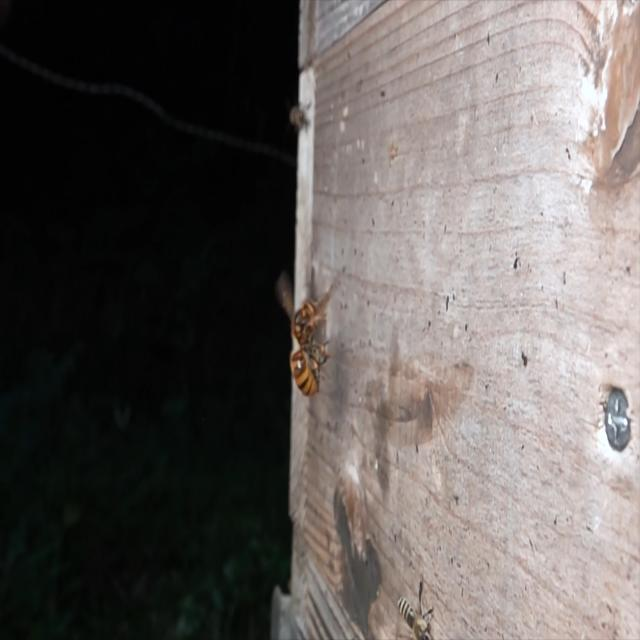Bees: (396, 579, 435, 640)
Hornets: (286, 288, 330, 400)
